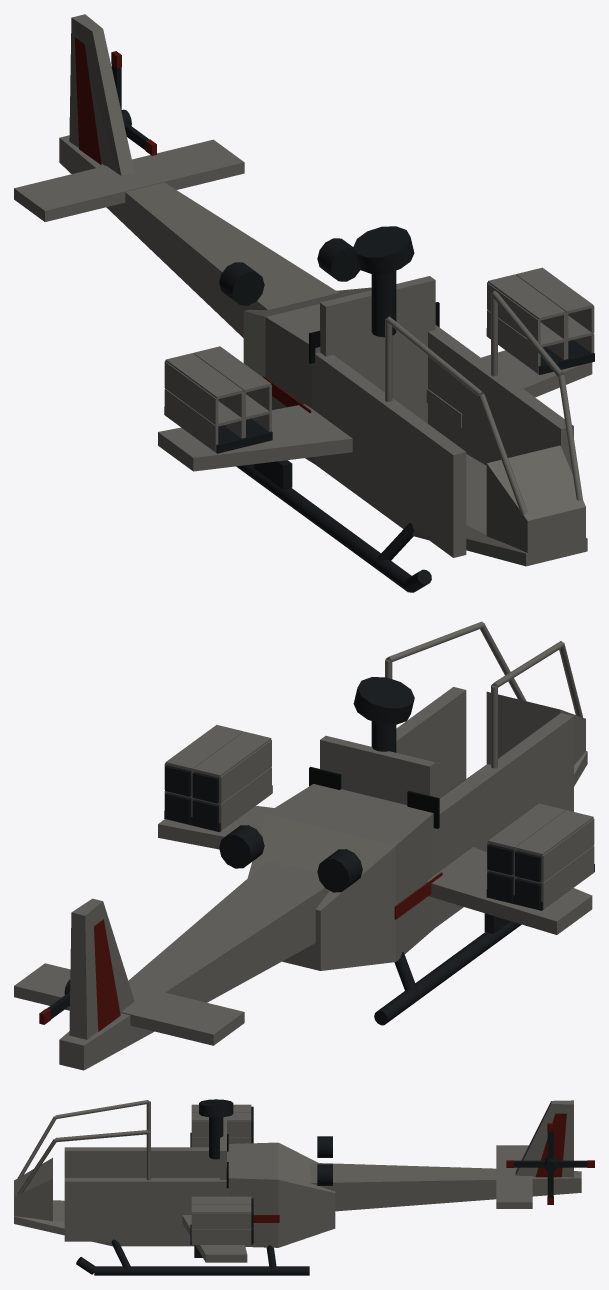
3 renders of one model, top to bottom at view 1: azimuth 30°, elevation 25°; view 2: azimuth 150°, elevation 25°; view 3: azimuth 270°, elevation 25°, orthographic. The views are drawn at different scales.
Visible parts, largest first — view 1: helicopter-painted, rocket-pod--1-painted, rocket-pod-1-painted, rotor-main-fleet-machine; view 2: helicopter-painted, rocket-pod--1-painted, rocket-pod-1-painted, rotor-main-fleet-machine; view 3: helicopter-painted, rocket-pod-1-painted, rocket-pod--1-painted, rotor-main-fleet-machine, tail-blade-1-painted, tail-blade-3-painted, tail-blade-0-painted.
Boxes of the visible parts, x1=… form: helicopter-painted: x1=14, y1=14, x2=592, y2=592; rocket-pod--1-painted: x1=164, y1=346, x2=272, y2=453; rocket-pod-1-painted: x1=486, y1=267, x2=594, y2=374; rotor-main-fleet-machine: x1=353, y1=226, x2=414, y2=273; helicopter-painted: x1=14, y1=621, x2=592, y2=1070; rocket-pod--1-painted: x1=486, y1=803, x2=594, y2=910; rocket-pod-1-painted: x1=164, y1=725, x2=272, y2=832; rotor-main-fleet-machine: x1=353, y1=677, x2=414, y2=724; helicopter-painted: x1=14, y1=1100, x2=581, y2=1275; rocket-pod-1-painted: x1=190, y1=1196, x2=253, y2=1244; rocket-pod--1-painted: x1=190, y1=1104, x2=253, y2=1147; rotor-main-fleet-machine: x1=199, y1=1099, x2=233, y2=1117; tail-blade-1-painted: x1=506, y1=1160, x2=545, y2=1167; tail-blade-3-painted: x1=556, y1=1160, x2=594, y2=1167; tail-blade-0-painted: x1=547, y1=1123, x2=553, y2=1159.
Bounding box in the file's own units: 29.26 × 18.36 × 63.05.
